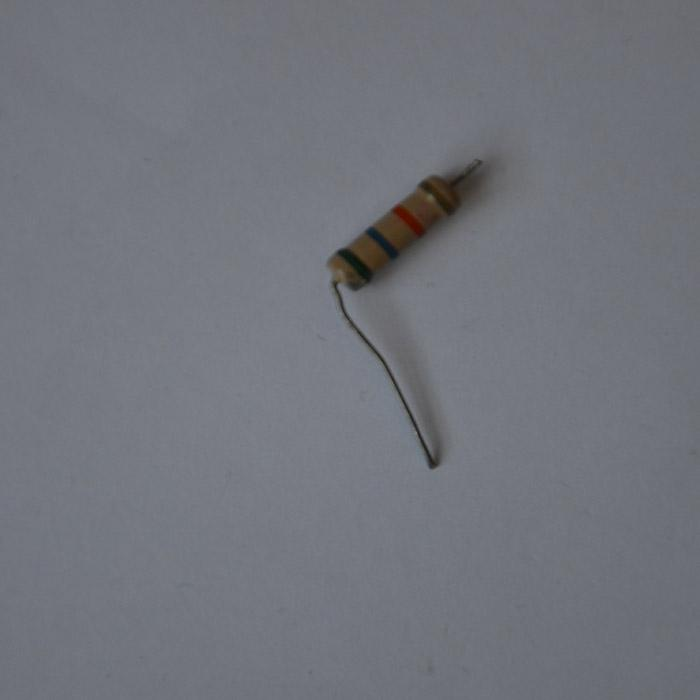resistor: (324, 158, 477, 294)
